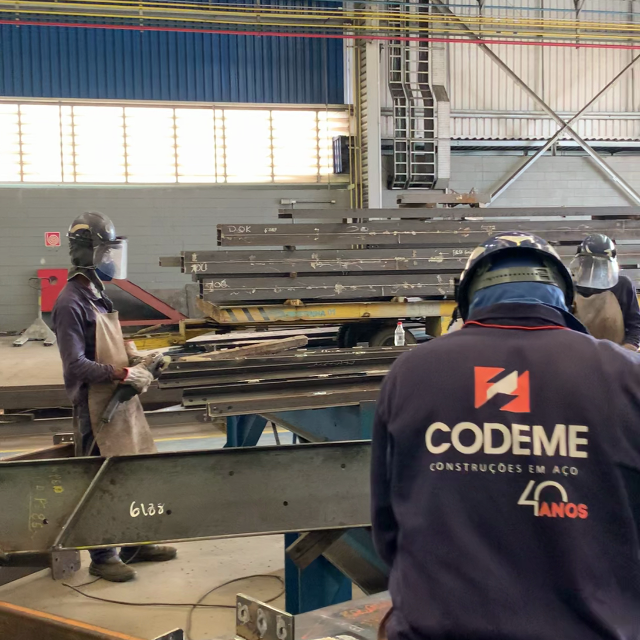face-shield: (90, 237, 131, 281)
helmet: (64, 211, 117, 240)
person: (49, 210, 172, 447)
safety-shoe: (88, 550, 142, 585), (118, 548, 180, 564)
